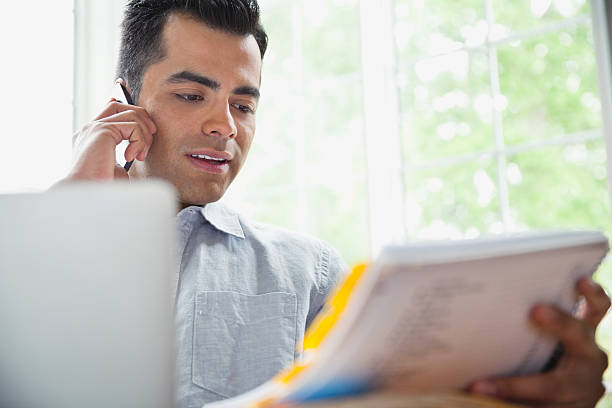phone: (106, 80, 153, 184)
talk: (71, 67, 259, 210)
